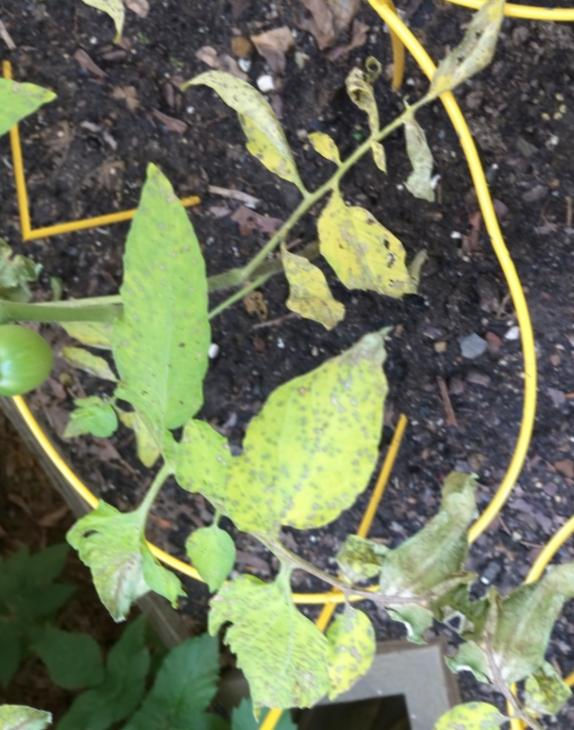Tomato Septoria leaf spot: (8, 161, 301, 470), (189, 289, 451, 587), (27, 473, 227, 669), (159, 549, 375, 730), (283, 169, 452, 323), (150, 415, 257, 524)
